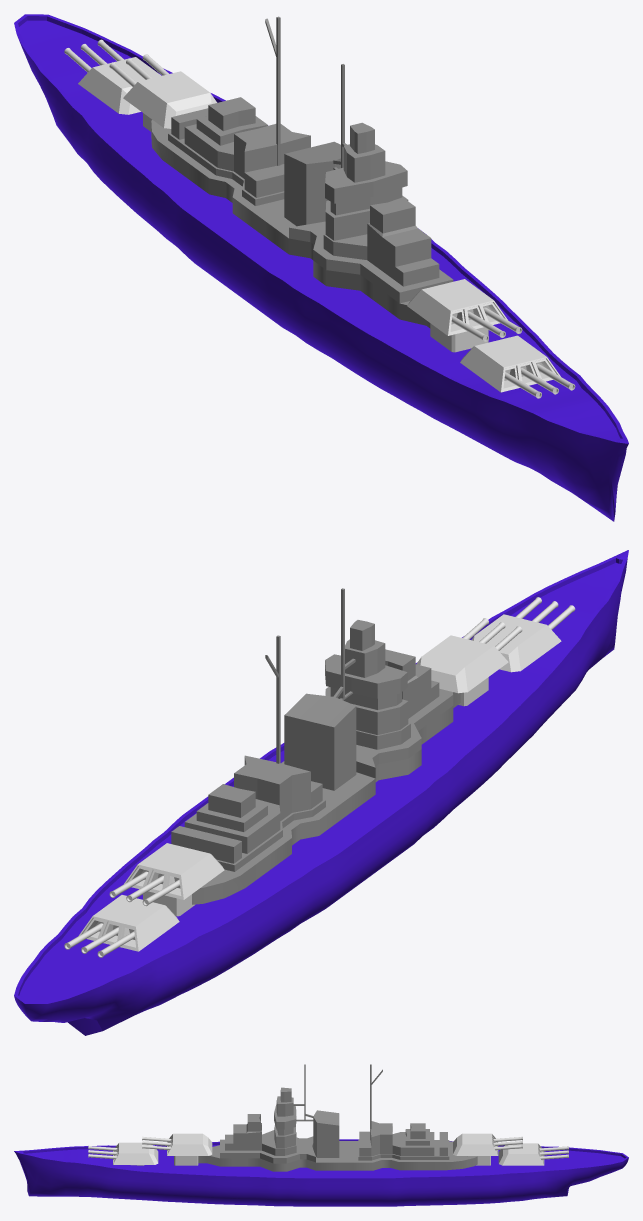
The model's file is Battleship.FBX.
The picture shows the model from 3 angles, top to bottom: view 1: azimuth 30°, elevation 25°; view 2: azimuth 150°, elevation 25°; view 3: azimuth 270°, elevation 25°; orthographic projection. The views are drawn at different scales.
Visible parts, largest first — view 1: Boat_Base, Bridge, Box002, Box004, Box006, Box005, Cylinder006, Cylinder002, BridgePole; view 2: Boat_Base, Bridge, Box004, Box002, Box005, Box006, Cylinder005, Cylinder004, BridgePole; view 3: Boat_Base, Bridge, Box002, Box004, Box006, Box005, Cylinder006, Cylinder005, Cylinder004, Cylinder002.
Boxes of the visible parts, x1,y1,x2,y2 form: Boat_Base: [14, 14, 628, 521]; Bridge: [151, 97, 453, 328]; Box002: [407, 279, 507, 352]; Box004: [123, 71, 217, 131]; Box006: [460, 335, 560, 392]; Box005: [78, 57, 161, 114]; Cylinder006: [504, 364, 575, 398]; Cylinder002: [451, 307, 522, 341]; BridgePole: [265, 16, 280, 165]; Boat_Base: [14, 550, 628, 1035]; Bridge: [171, 620, 460, 904]; Box004: [124, 843, 224, 916]; Box002: [416, 635, 508, 706]; Box005: [79, 895, 179, 951]; Box006: [471, 614, 561, 672]; Cylinder005: [64, 923, 134, 957]; Cylinder004: [109, 871, 179, 906]; BridgePole: [265, 635, 280, 763]; Boat_Base: [14, 1139, 628, 1206]; Bridge: [198, 1087, 477, 1171]; Box002: [167, 1133, 212, 1165]; Box004: [453, 1133, 498, 1165]; Box006: [113, 1142, 158, 1165]; Box005: [498, 1143, 544, 1165]; Cylinder006: [88, 1145, 117, 1159]; Cylinder005: [539, 1146, 568, 1159]; Cylinder004: [494, 1136, 522, 1150]; Cylinder002: [142, 1136, 171, 1150].
Size of the model in its own units: 1472 by 2312 by 9635.
